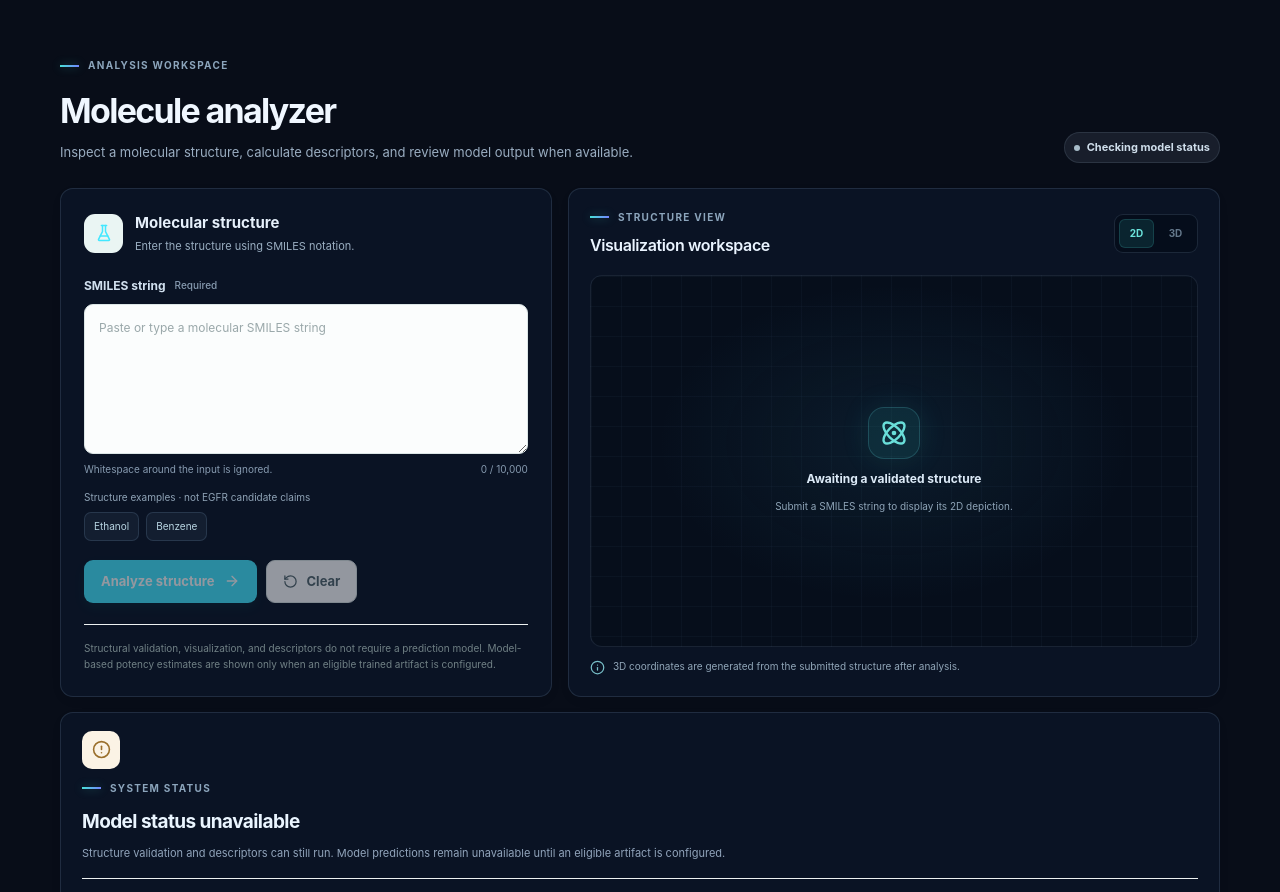
Test: AnalyzerPage › labels a missing domain assessment as unavailable without hiding the prediction
Type "CCO" into the text box labelled "SMILES string Required" at (306, 379), box [84, 304, 528, 454]
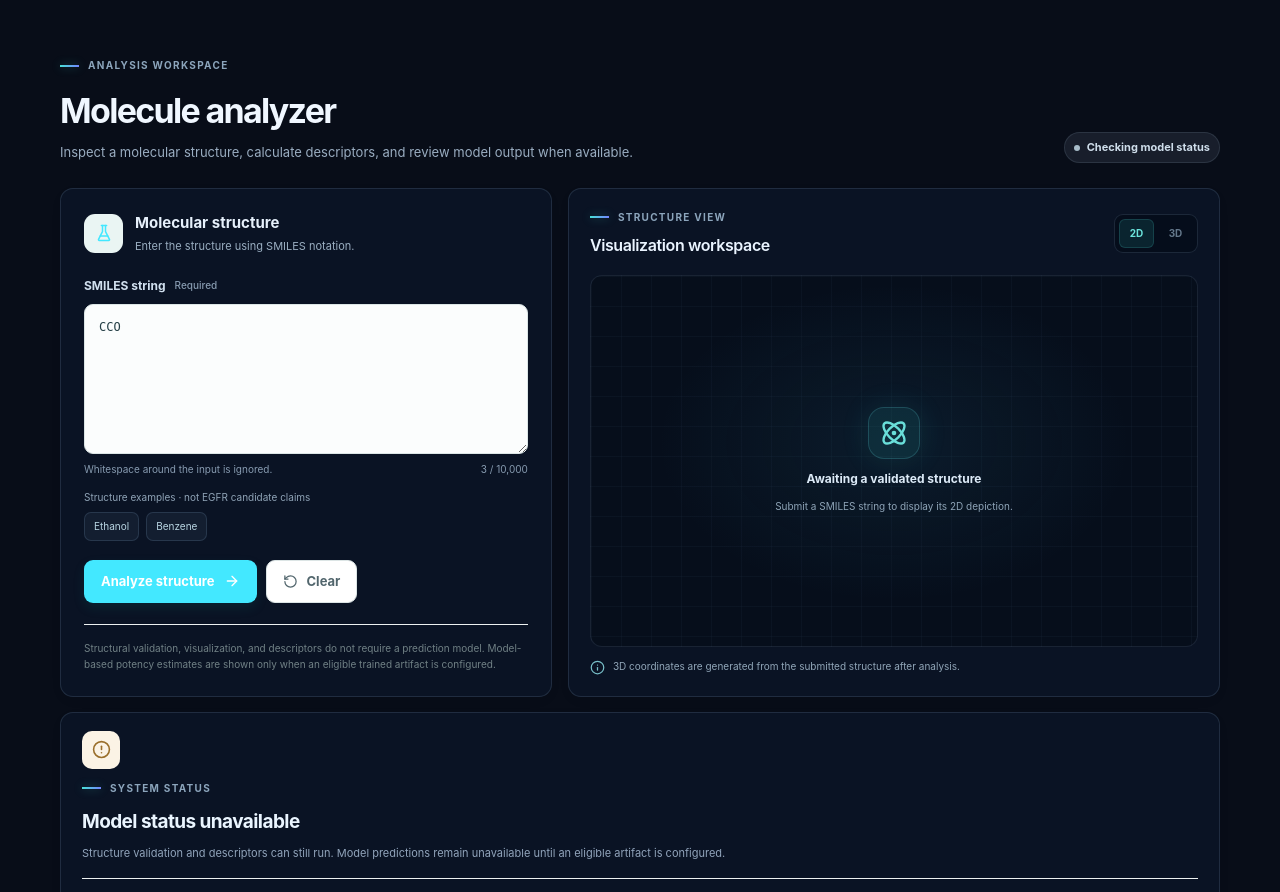
Click the button "Analyze structure" at (170, 581), box [84, 560, 256, 603]
(page scrolled)
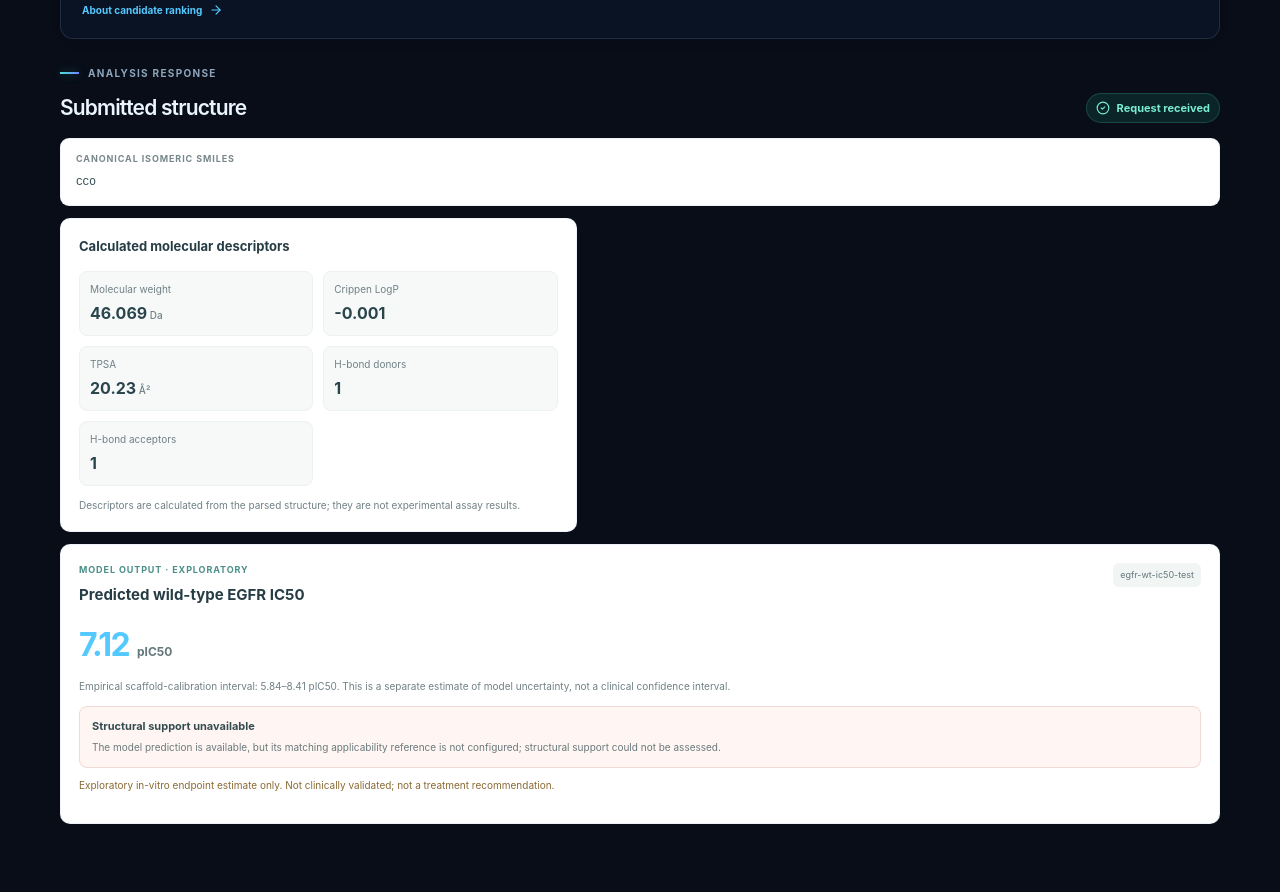
Result: the heading "Predicted wild-type EGFR IC50" is shown at [79, 584, 304, 606]
Result: the text "Structural support unavailable" is shown at [92, 718, 255, 735]
Result: the text "matching applicability reference is not configured" is shown at [92, 741, 721, 753]
